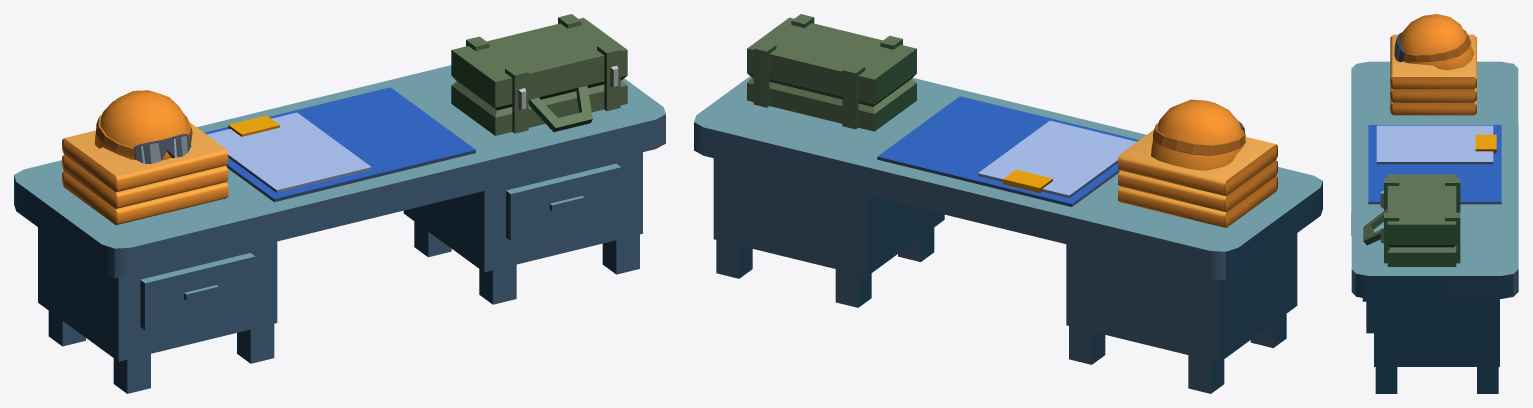
File: Checkin_Desk.fbx
The picture shows the model from 3 angles, left to right: view 1: azimuth 30°, elevation 25°; view 2: azimuth 150°, elevation 25°; view 3: azimuth 270°, elevation 25°; orthographic projection. The views are drawn at different scales.
Parts seen in each view (by area): view 1: army_desk, files, suitcase, uniform; view 2: army_desk, files, uniform, suitcase; view 3: army_desk, files, uniform, suitcase.
Part boxes in pixels (x1=…): army_desk: x1=14, y1=65, x2=665, y2=393; files: x1=204, y1=87, x2=475, y2=202; suitcase: x1=451, y1=14, x2=627, y2=135; uniform: x1=62, y1=90, x2=228, y2=225; army_desk: x1=694, y1=76, x2=1322, y2=393; files: x1=877, y1=96, x2=1138, y2=206; uniform: x1=1118, y1=99, x2=1277, y2=227; suitcase: x1=747, y1=14, x2=916, y2=131; army_desk: x1=1351, y1=61, x2=1518, y2=393; files: x1=1368, y1=125, x2=1501, y2=204; uniform: x1=1390, y1=14, x2=1476, y2=115; suitcase: x1=1363, y1=174, x2=1460, y2=266.
Size of the model in its own units: 374 by 164 by 123.
